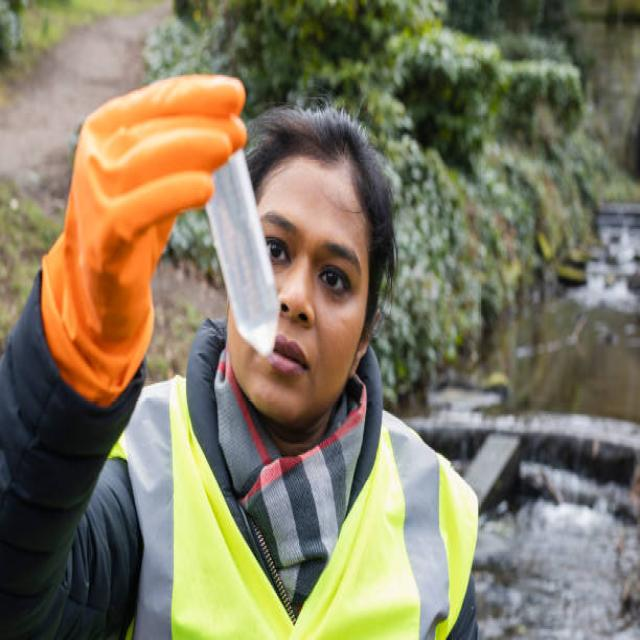Gloves: (29, 63, 255, 413)
Vest: (113, 375, 478, 640)
person: (1, 72, 482, 640)
